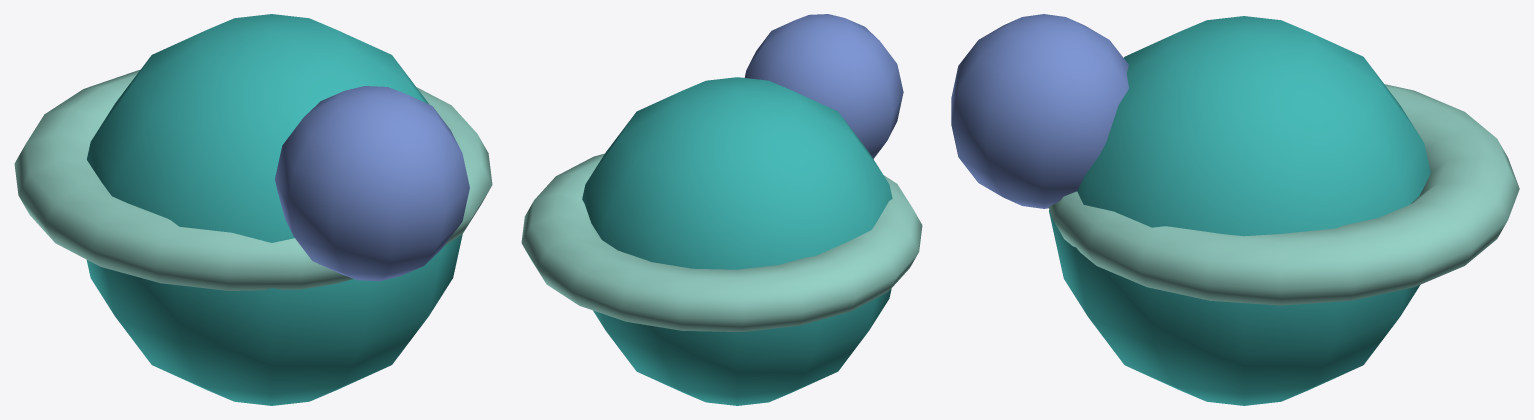
Rendered from echo_shell.glb.
The picture shows the model from 3 angles, left to right: view 1: azimuth 30°, elevation 25°; view 2: azimuth 150°, elevation 25°; view 3: azimuth 270°, elevation 25°; orthographic projection. The views are drawn at different scales.
Parts seen in each view (by area): view 1: body_core, head_core, shell_ring; view 2: body_core, shell_ring, head_core; view 3: body_core, shell_ring, head_core.
Boxes of the visible parts, <box> form: body_core: <box>86,14,462,405</box>; head_core: <box>275,86,469,281</box>; shell_ring: <box>14,69,492,290</box>; body_core: <box>582,77,892,405</box>; shell_ring: <box>521,153,922,331</box>; head_core: <box>744,14,903,158</box>; body_core: <box>1049,16,1430,405</box>; shell_ring: <box>1048,84,1519,305</box>; head_core: <box>951,14,1128,208</box>.
Size of what is drawn, in the model's own units: 1.96 by 1.65 by 2.33.
